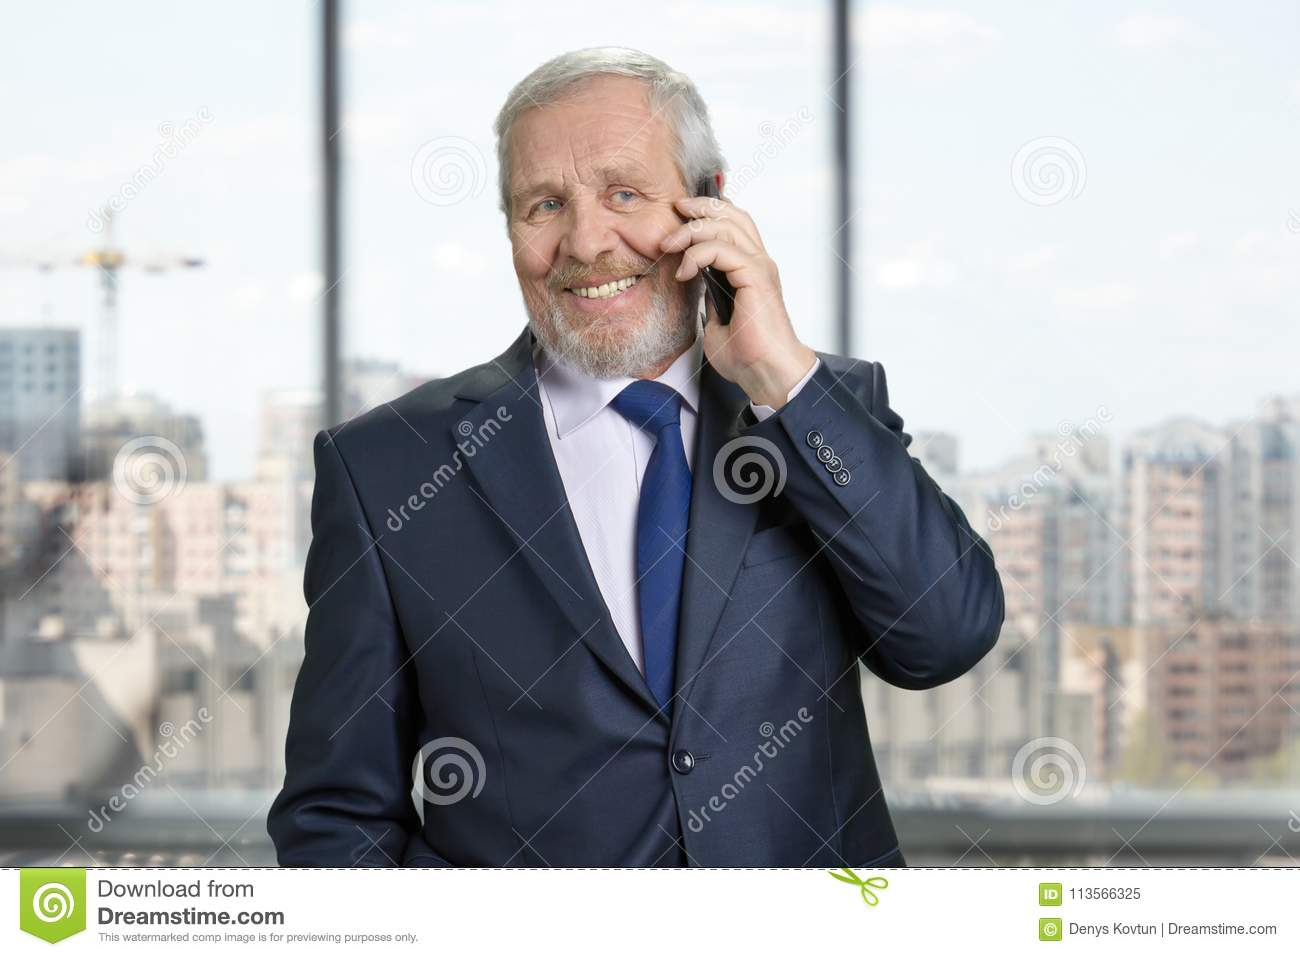phone: (674, 174, 751, 339)
talk: (507, 155, 799, 406)
